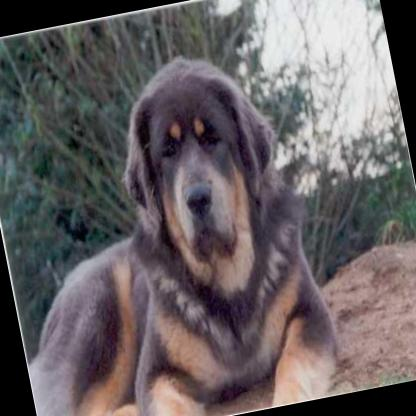Tibetan_mastiff: (0, 32, 349, 416)
